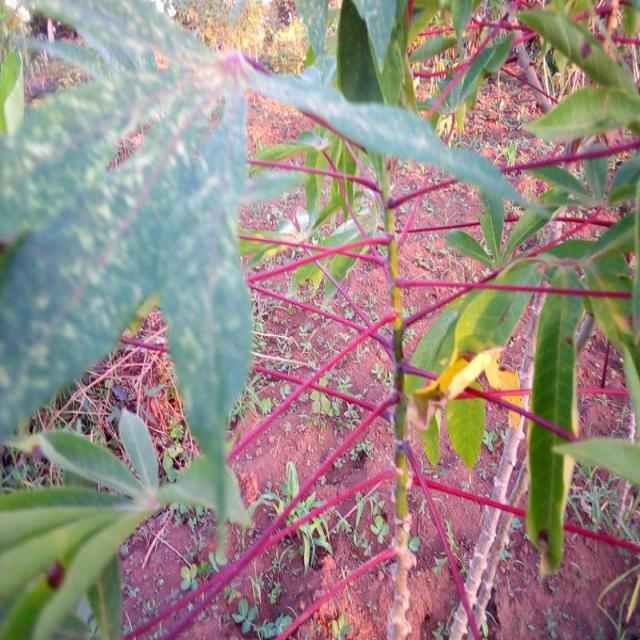cassava leaf: (0, 0, 253, 517), (524, 261, 585, 576)
